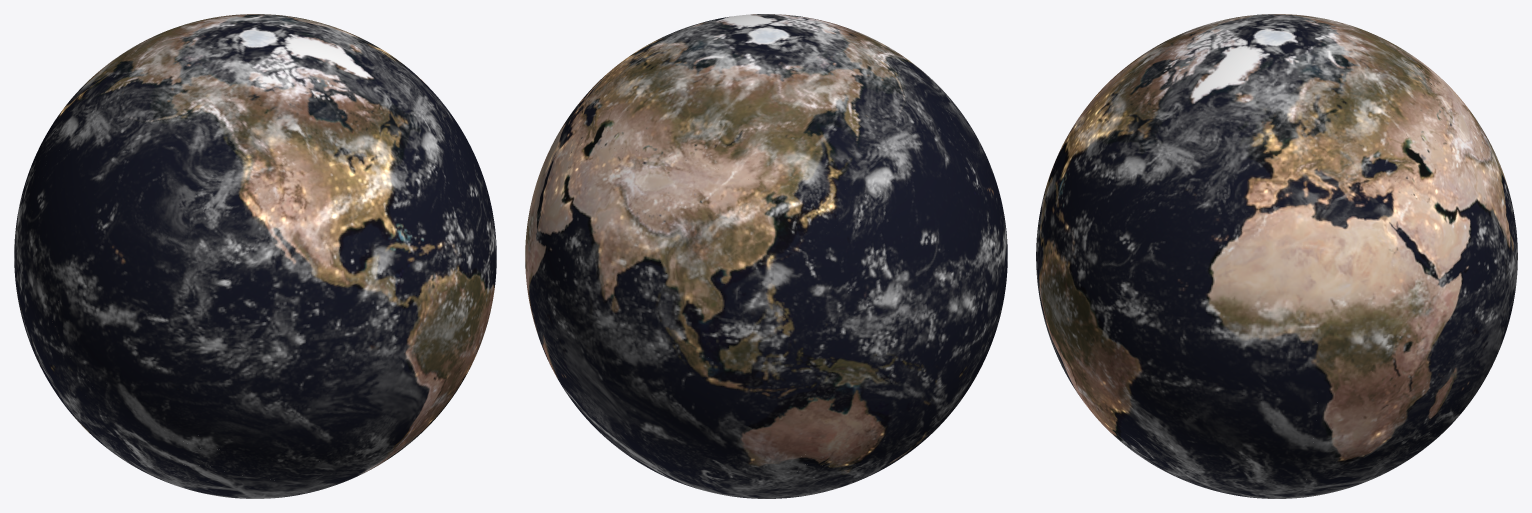
The model's file is earth_optimized.glb.
The picture shows the model from 3 angles, left to right: view 1: azimuth 30°, elevation 25°; view 2: azimuth 150°, elevation 25°; view 3: azimuth 270°, elevation 25°; orthographic projection.
Visible parts, largest first — view 1: Earth; view 2: Earth; view 3: Earth.
Part boxes in pixels (x1=…): Earth: x1=14, y1=14, x2=496, y2=498; Earth: x1=525, y1=14, x2=1007, y2=498; Earth: x1=1036, y1=14, x2=1517, y2=498.
Size of the model in its own units: 0.3854 by 0.3883 by 0.3854.
1 material, 1 textured.
